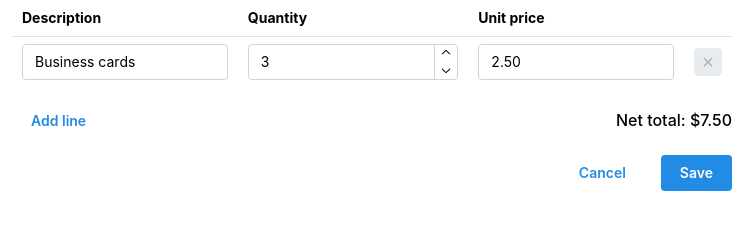
Scenario: InvoiceForm › renders API validation errors on the matching line-item field
Replace the text in the 3rd field with "10.00" at {"x": 576, "y": 62}, box [478,44,674,80]
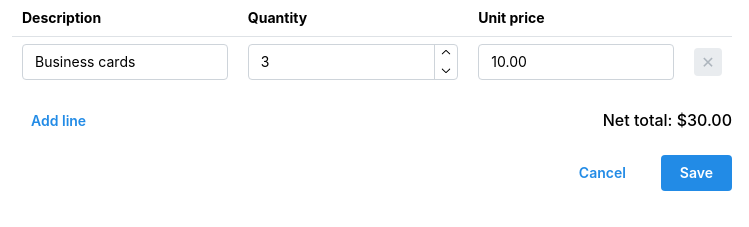
Click the button "Save" at {"x": 696, "y": 173}, box [661,155,732,191]
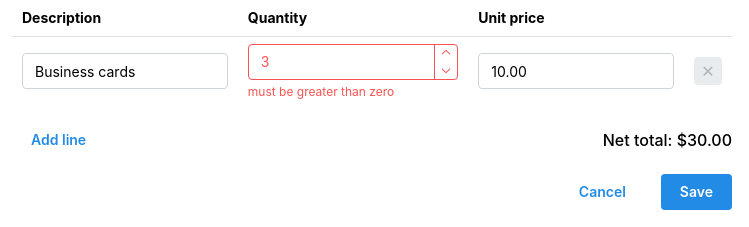
expect the text "must be greater than zero" is shown: met, box [248,84,394,99]
